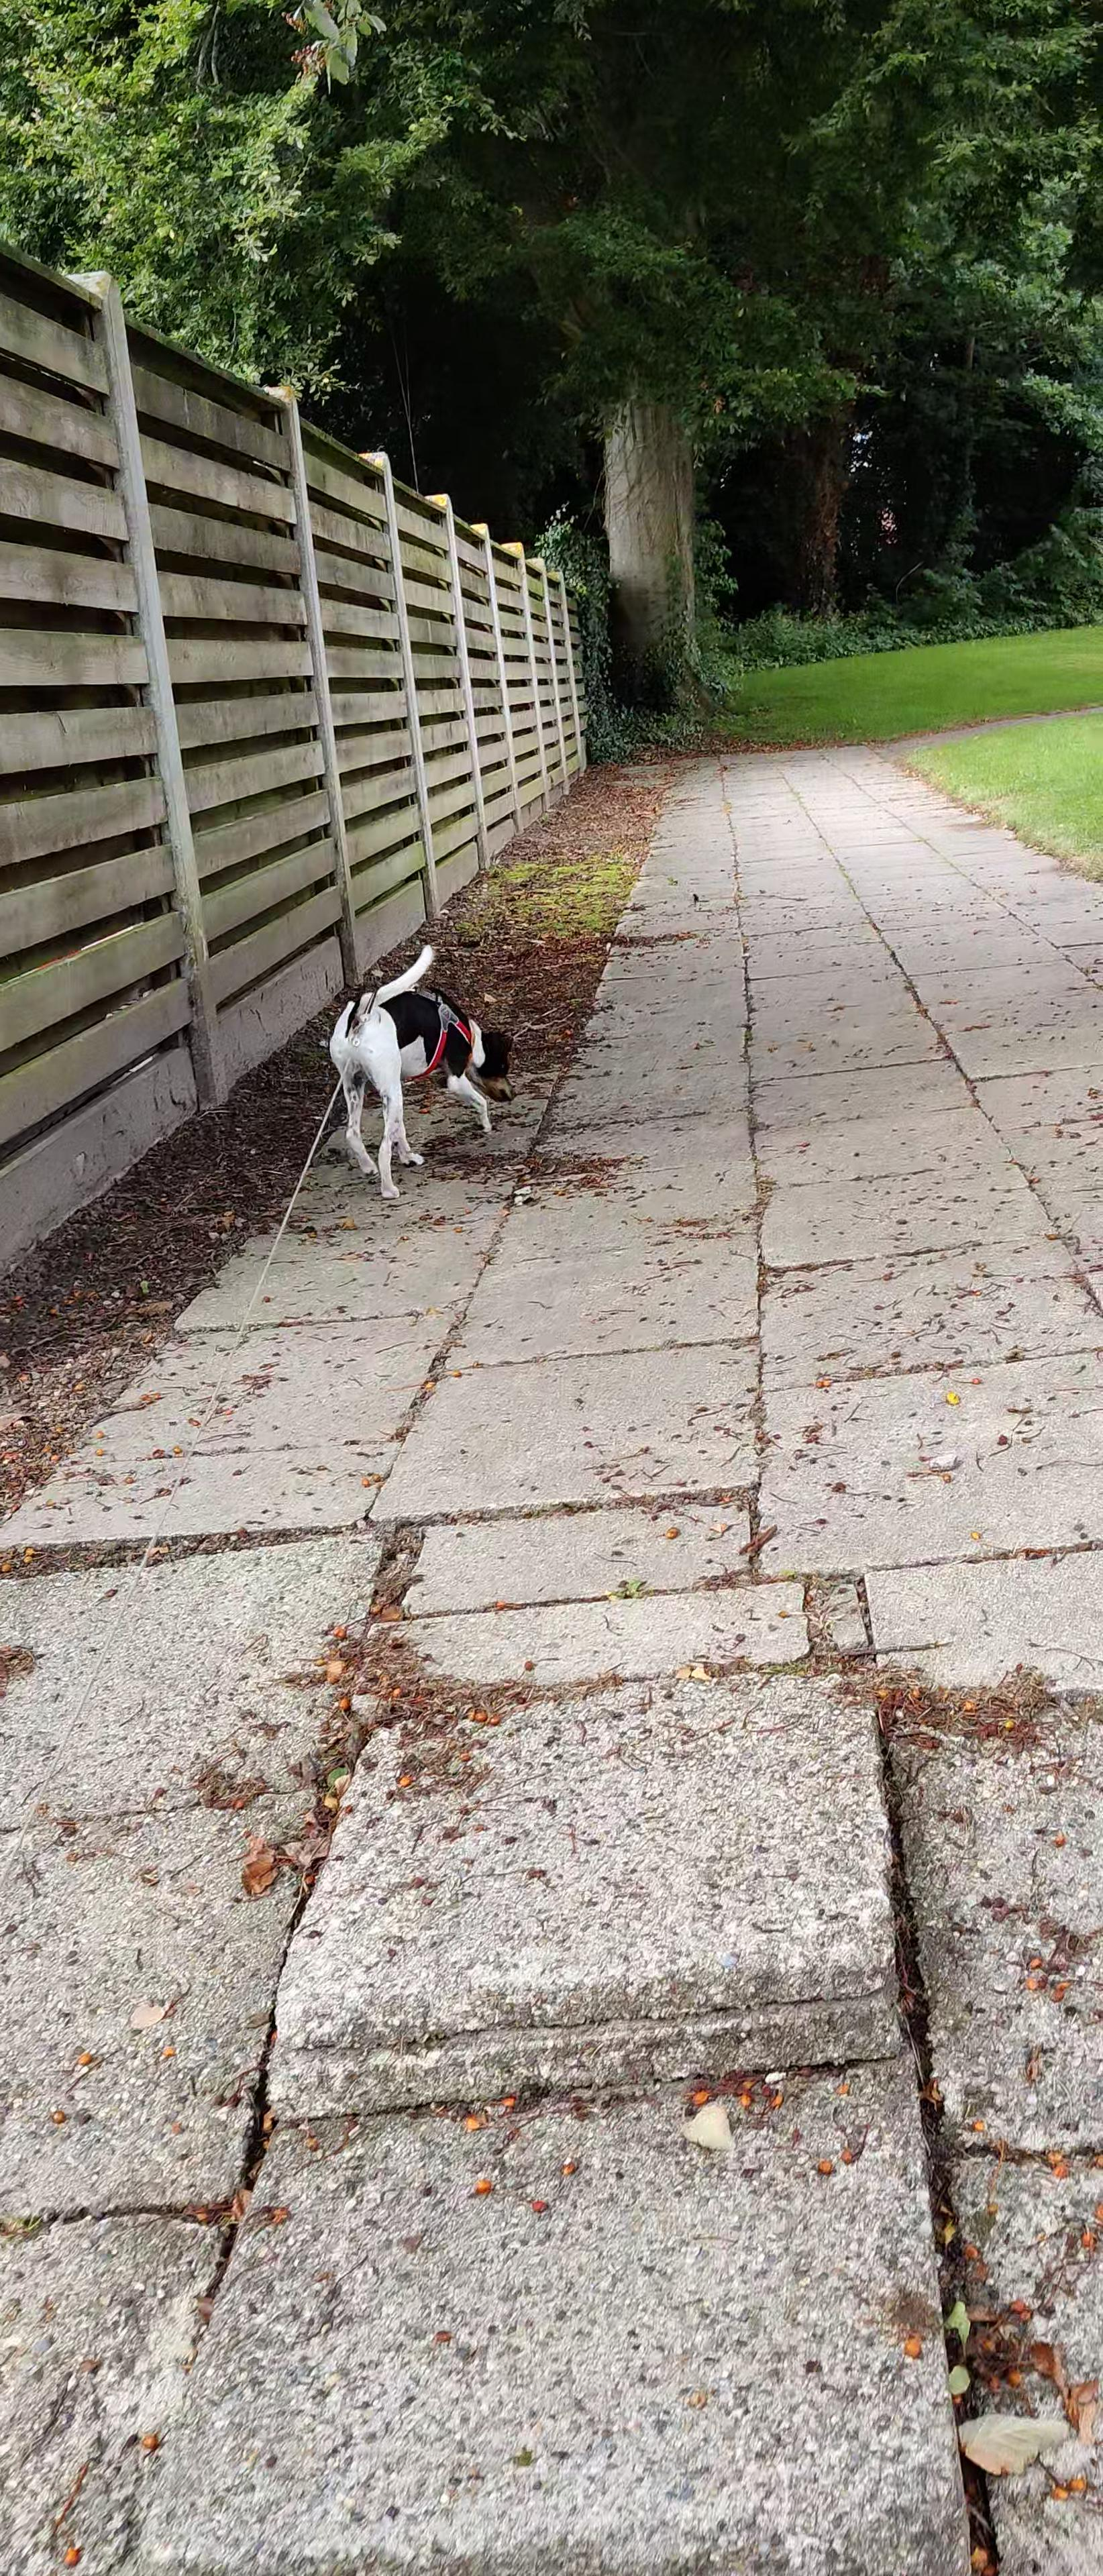Dog: (311, 936, 531, 1201)
